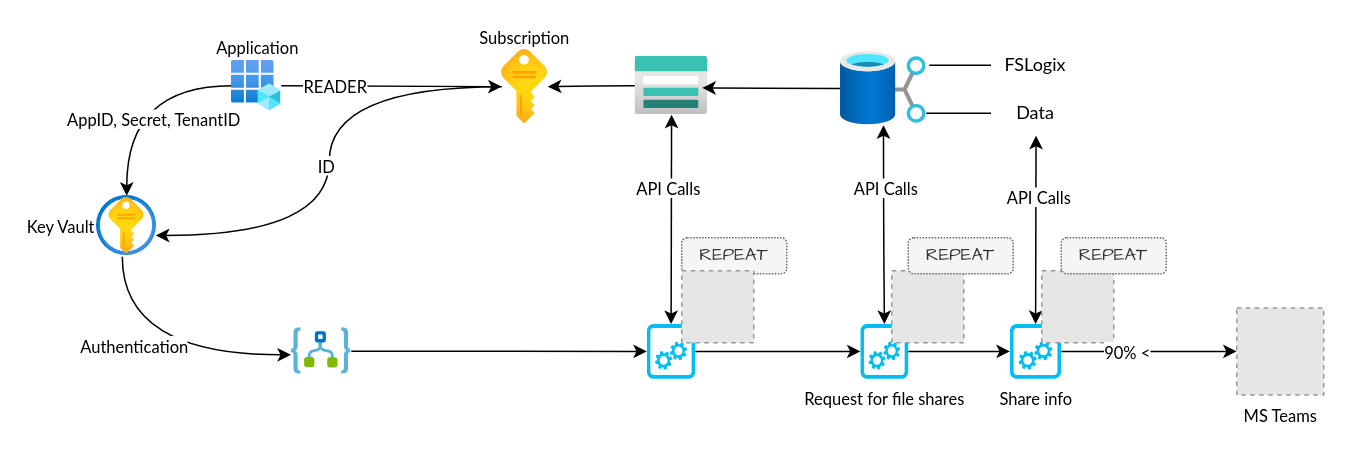
The diagram is 1350 pixels wide and 452 high, and some of its shapes have lost their labels. Grey dashed boxes stand in for pictures. Each missing label, with the centre of its shape:
"Fileshares" belongs at (883,87).
"Logic App" belongs at (321,350).
"Request for storage accounts" belongs at (670,350).
"Storage Account" belongs at (670,85).
